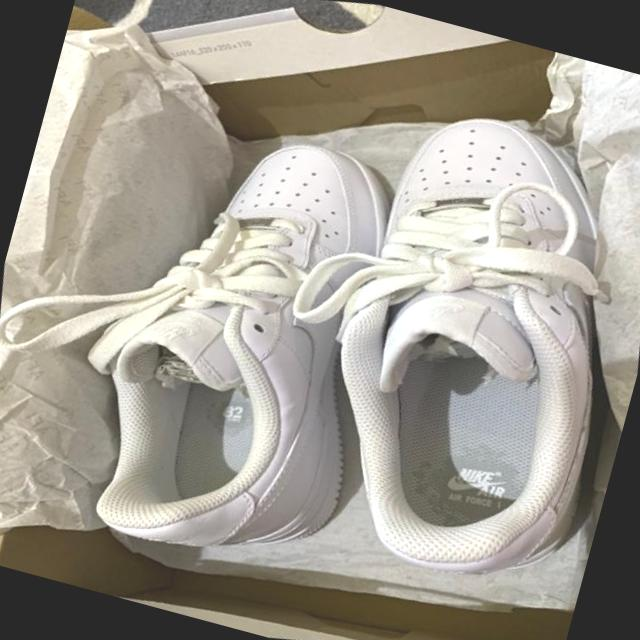nike_original_airforce: (10, 80, 464, 610), (238, 54, 640, 625)
